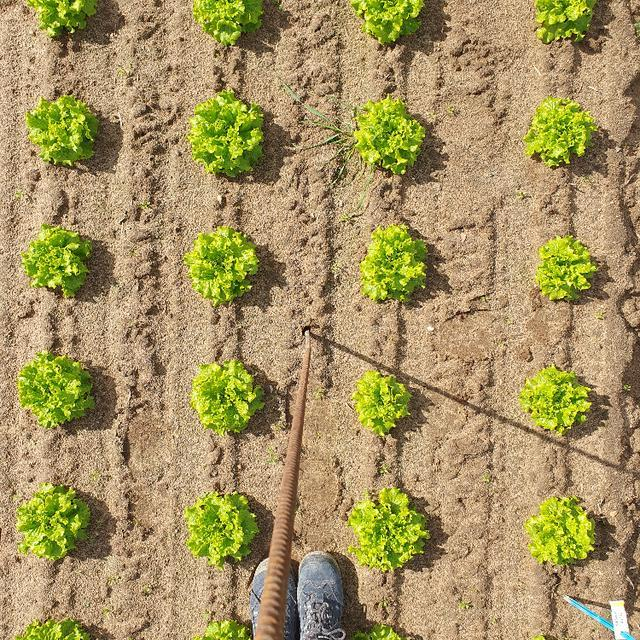Lettuce: (344, 480, 438, 575), (347, 85, 430, 183), (188, 88, 268, 180), (358, 222, 435, 310), (180, 487, 262, 568), (20, 222, 102, 303), (188, 355, 268, 437), (17, 476, 93, 562), (524, 492, 604, 570), (22, 90, 105, 165), (520, 93, 600, 170), (186, 224, 262, 304), (17, 355, 98, 430), (346, 366, 422, 442), (520, 360, 597, 435), (535, 232, 603, 308), (348, 0, 434, 53), (188, 0, 268, 50), (28, 0, 102, 40), (13, 613, 101, 640), (353, 621, 419, 640), (200, 616, 251, 640)
